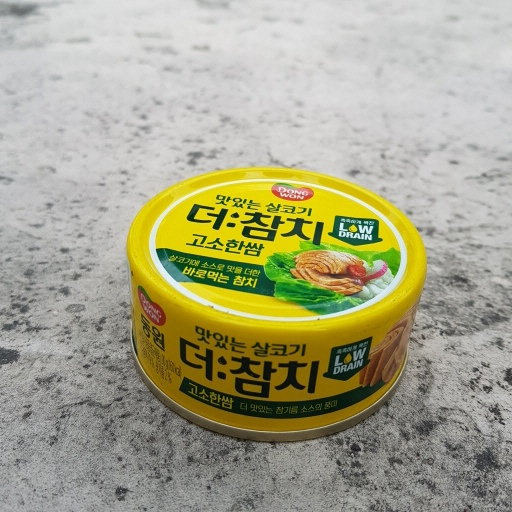Metal_1: (123, 162, 428, 445)
